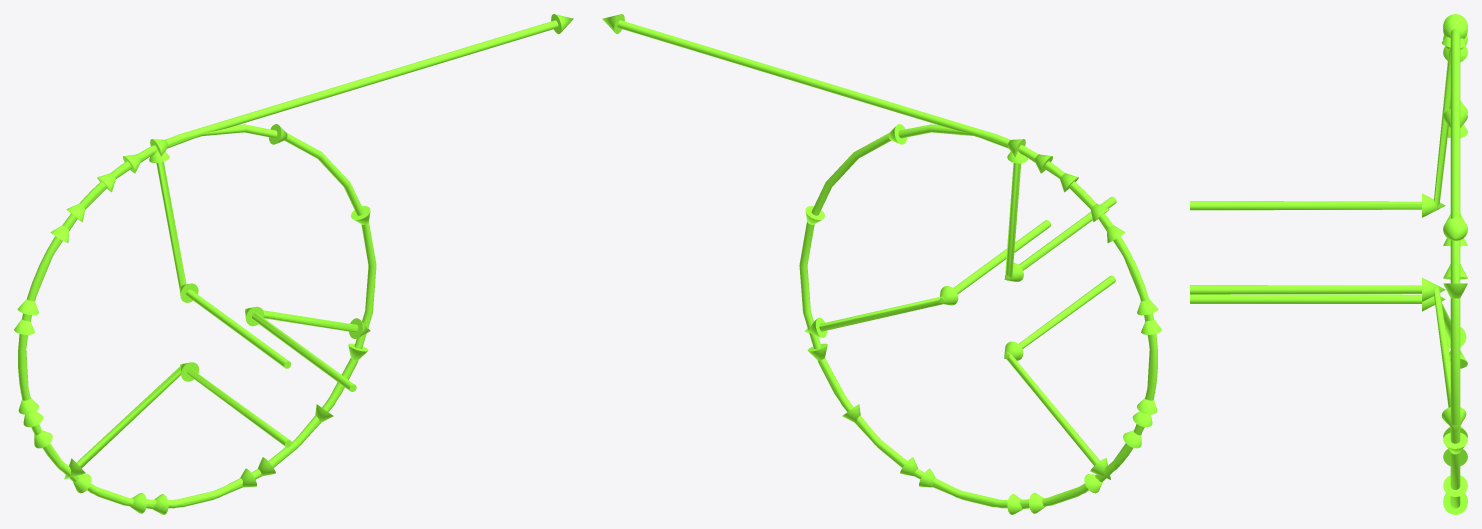
Rendered from primary_air_fan_flow.glb.
The picture shows the model from 3 angles, left to right: view 1: azimuth 30°, elevation 25°; view 2: azimuth 150°, elevation 25°; view 3: azimuth 270°, elevation 25°; orthographic projection. The views are drawn at different scales.
Visible parts, largest first — view 1: air_1, air_0, air_2; view 2: air_1, air_0, air_2; view 3: air_1, air_0, air_2.
Boxes of the visible parts, x1,y1,x2,y2 form: air_1: (18, 20, 557, 513); air_0: (14, 14, 573, 514); air_2: (17, 20, 558, 479); air_1: (618, 20, 1157, 513); air_0: (602, 14, 1161, 514); air_2: (617, 20, 1158, 479); air_1: (1190, 28, 1467, 514); air_0: (1190, 14, 1467, 508); air_2: (1190, 18, 1467, 348).
Size of the model in its own units: 1.59 by 1.1 by 0.581.
